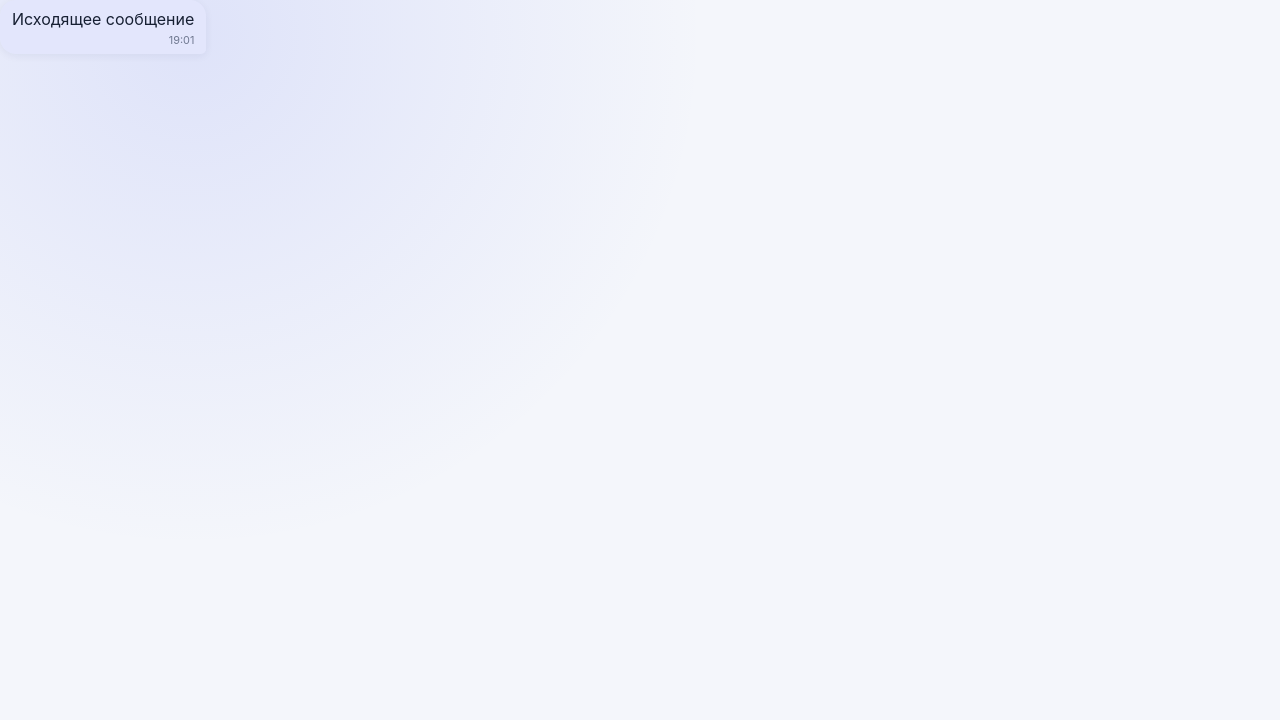
Test case: message context menu › abandons the deletion when the dialog is dismissed
This screenshot has width=1280, height=720.
Right-click the text "Исходящее сообщение": coordinates (103, 27) left=0, top=0, right=206, bottom=54
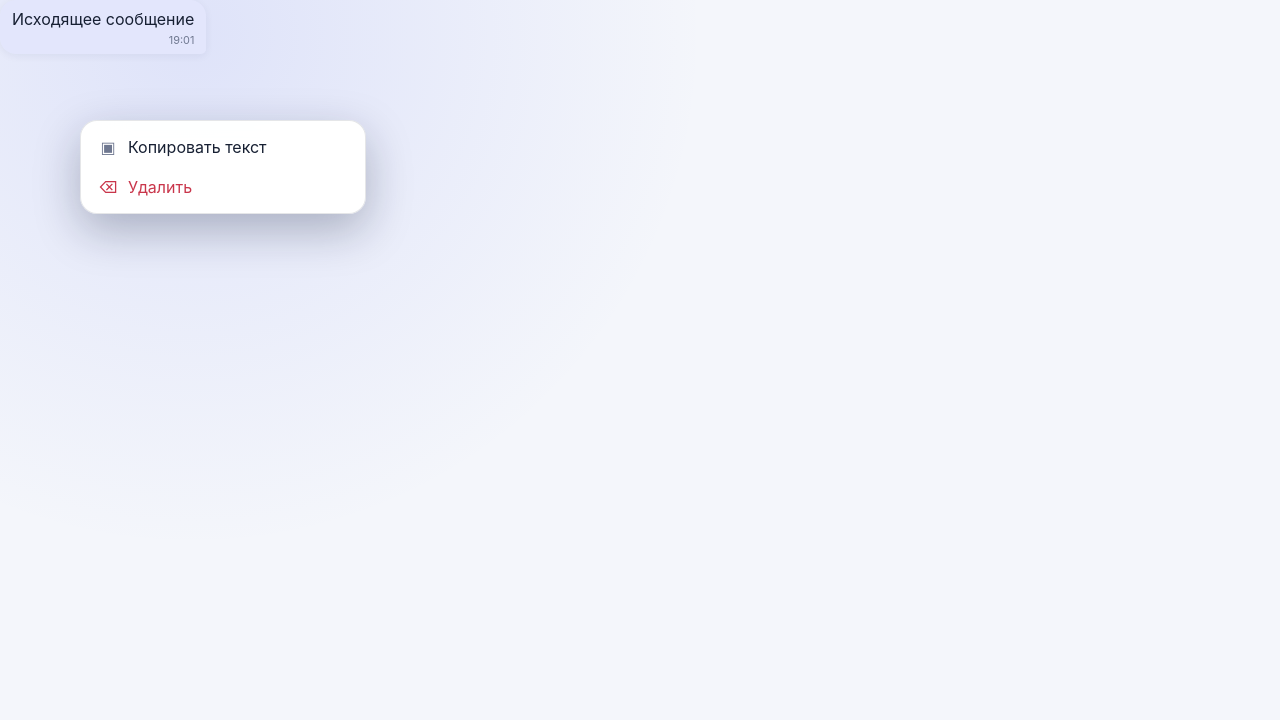
Click the menu item "⌫ Удалить": coordinates (160, 187) left=87, top=167, right=359, bottom=207
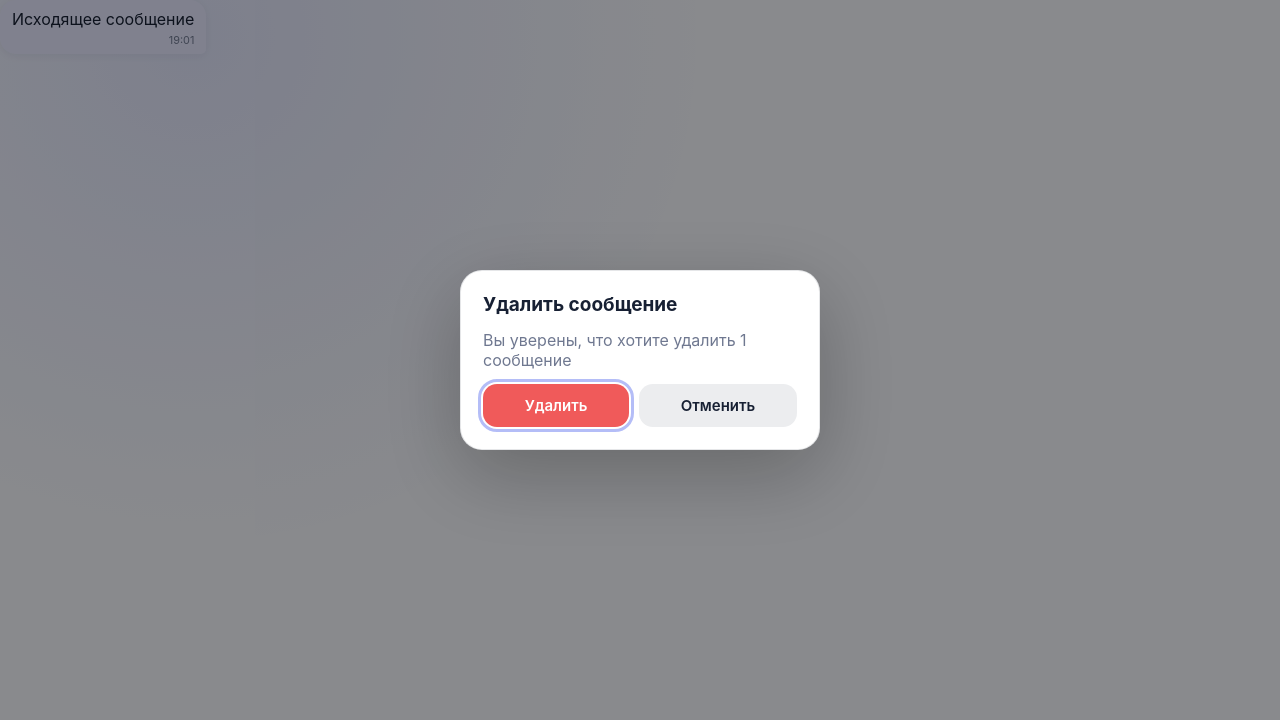
Click the button "Отменить": coordinates (718, 406) left=639, top=384, right=797, bottom=427
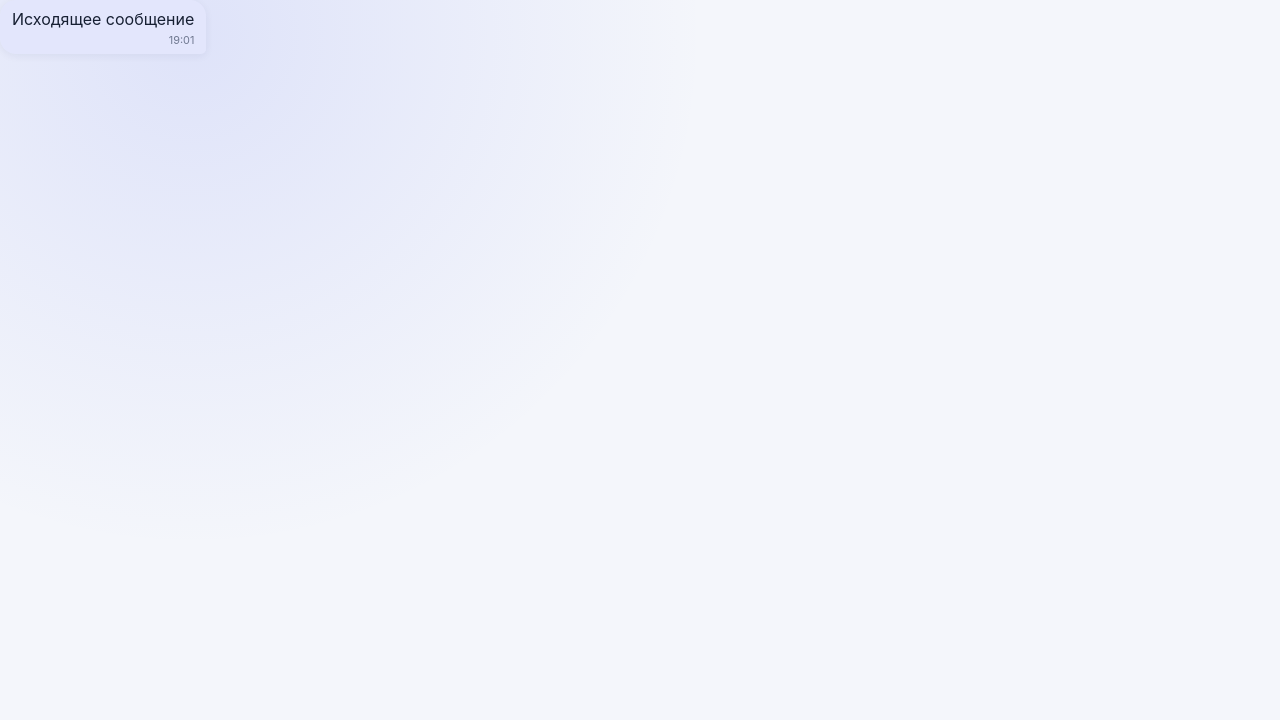
Now the dialog is gone
